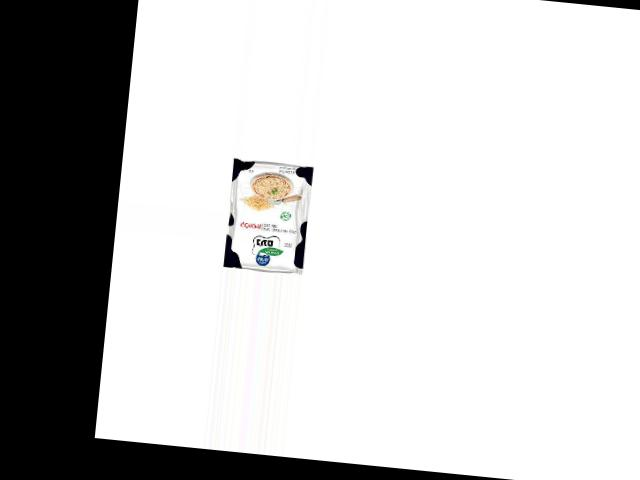cheese: (220, 156, 315, 275)
